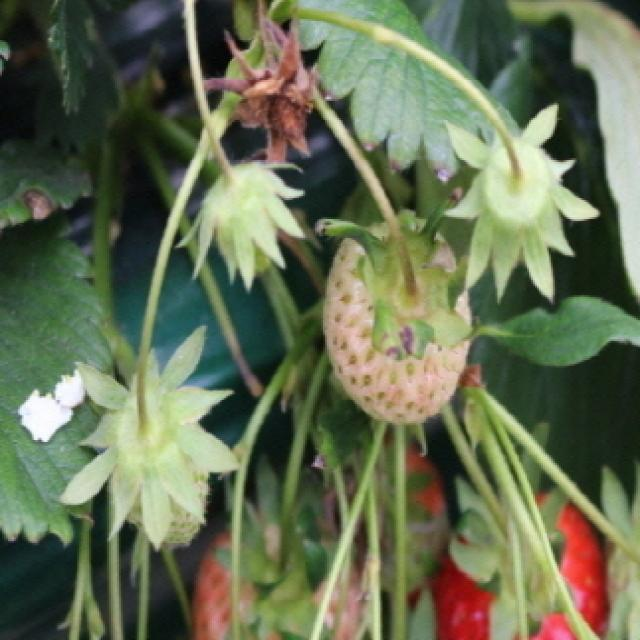Gray Mold: (203, 0, 320, 163)
